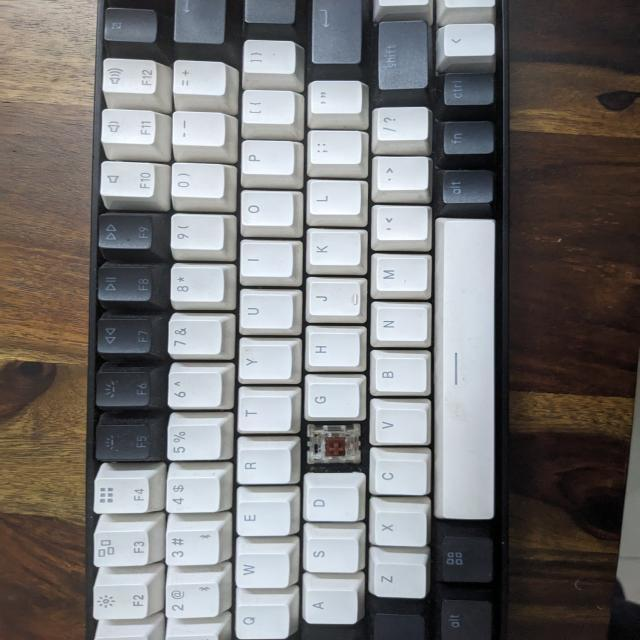key-switch: (305, 421, 365, 472)
